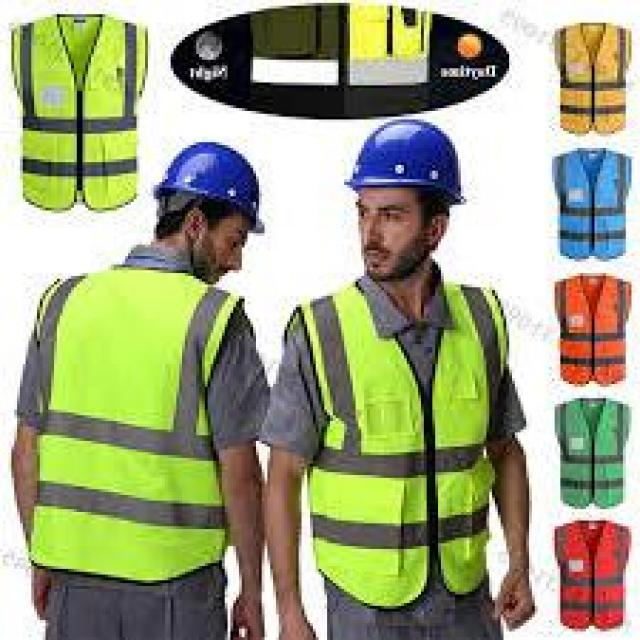Reflective-Jacket: (293, 270, 509, 603), (17, 268, 245, 580), (3, 8, 162, 225), (551, 19, 633, 134), (552, 272, 634, 387), (552, 395, 634, 510), (551, 515, 633, 630), (552, 145, 634, 260)
Safety-Helmet: (336, 114, 475, 213), (145, 134, 276, 236)
